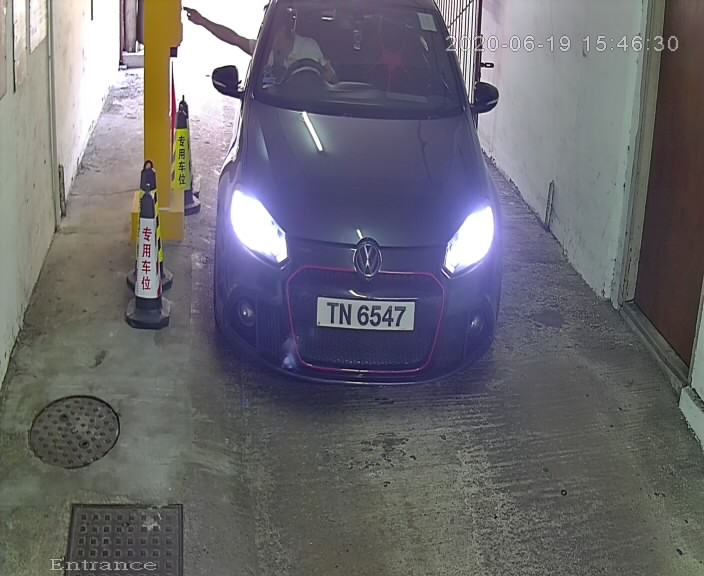privatecar: (215, 3, 522, 371)
